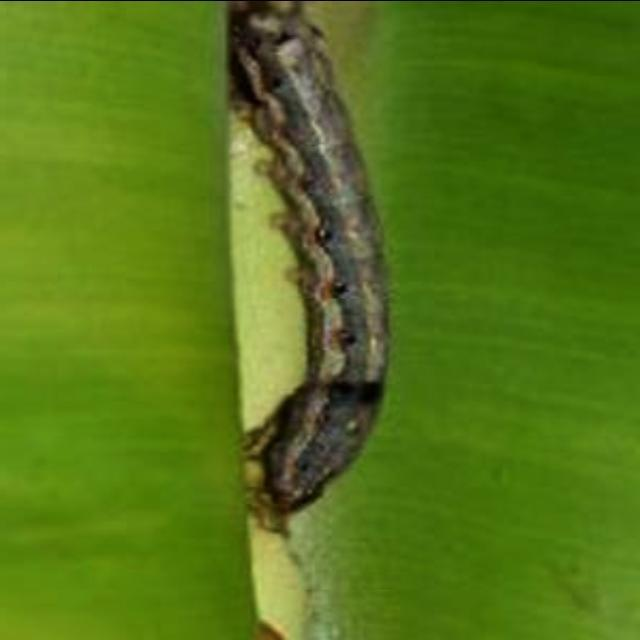Tobacco cutworm: (148, 0, 474, 602)
